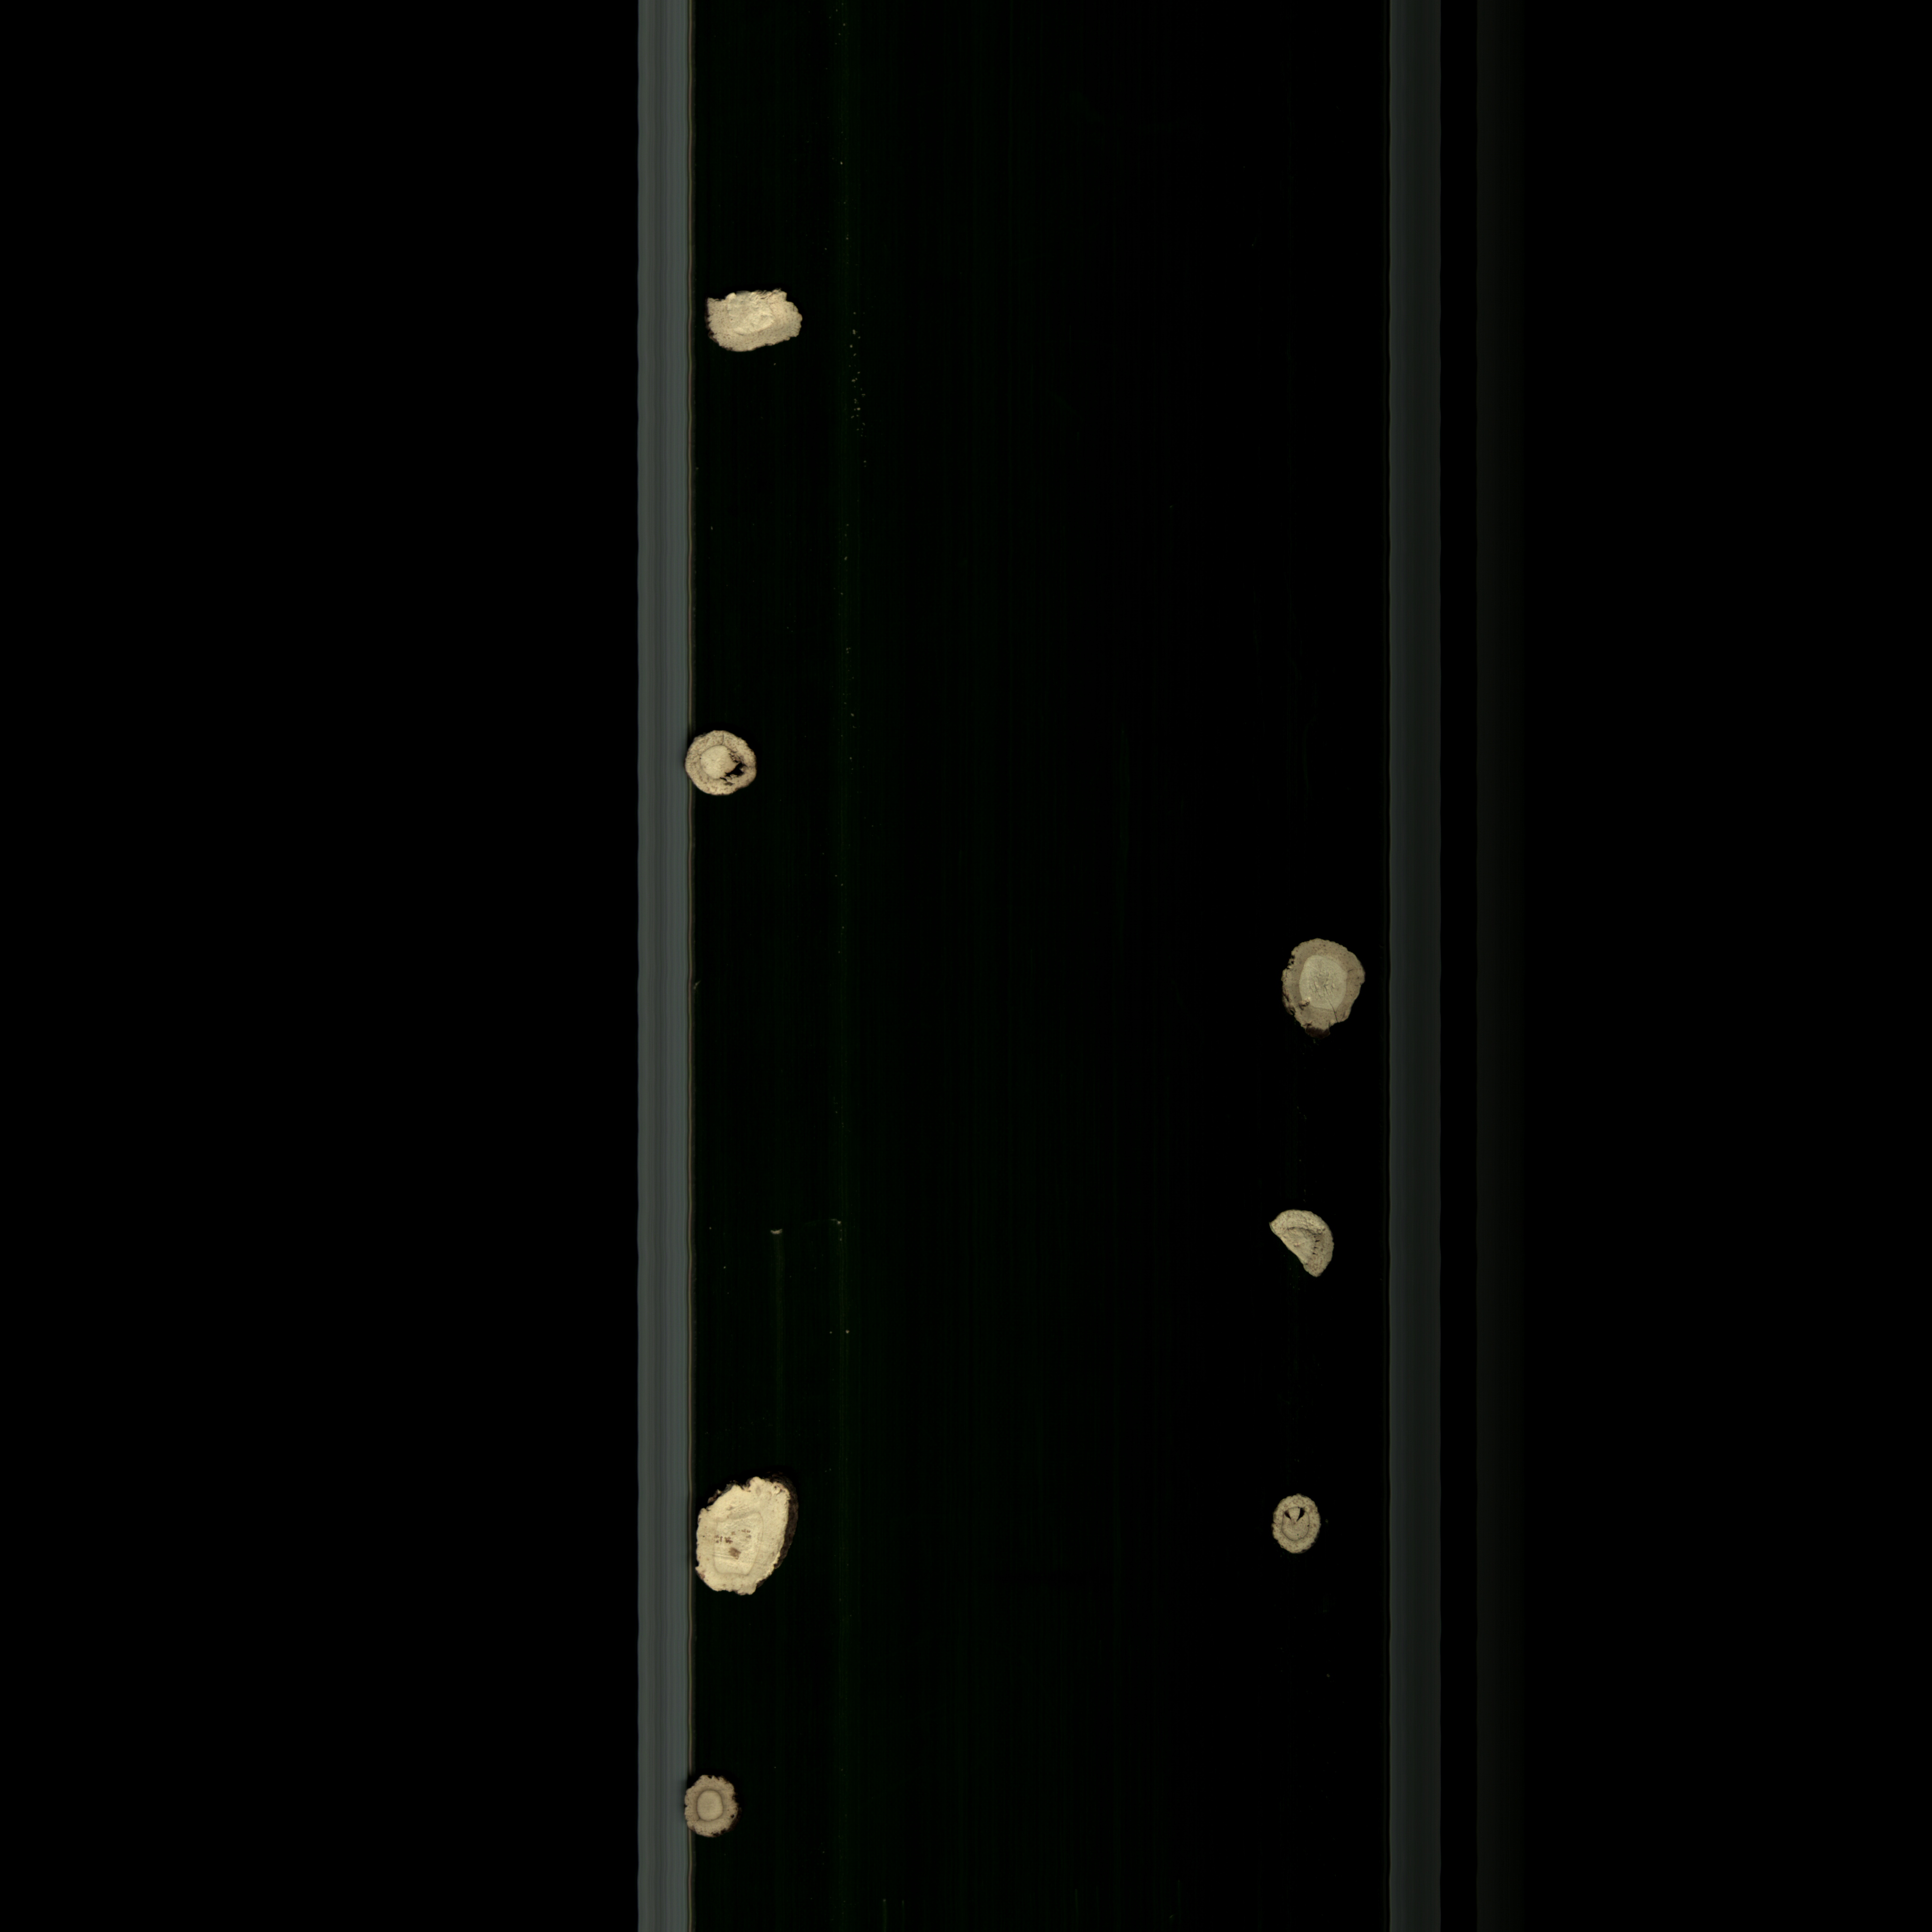debris: (690, 1474, 814, 1614), (692, 281, 821, 361), (1258, 1201, 1352, 1288)
hole: (669, 722, 775, 809), (1261, 1484, 1329, 1575)
moldy: (1270, 932, 1373, 1053), (679, 1767, 752, 1842)
